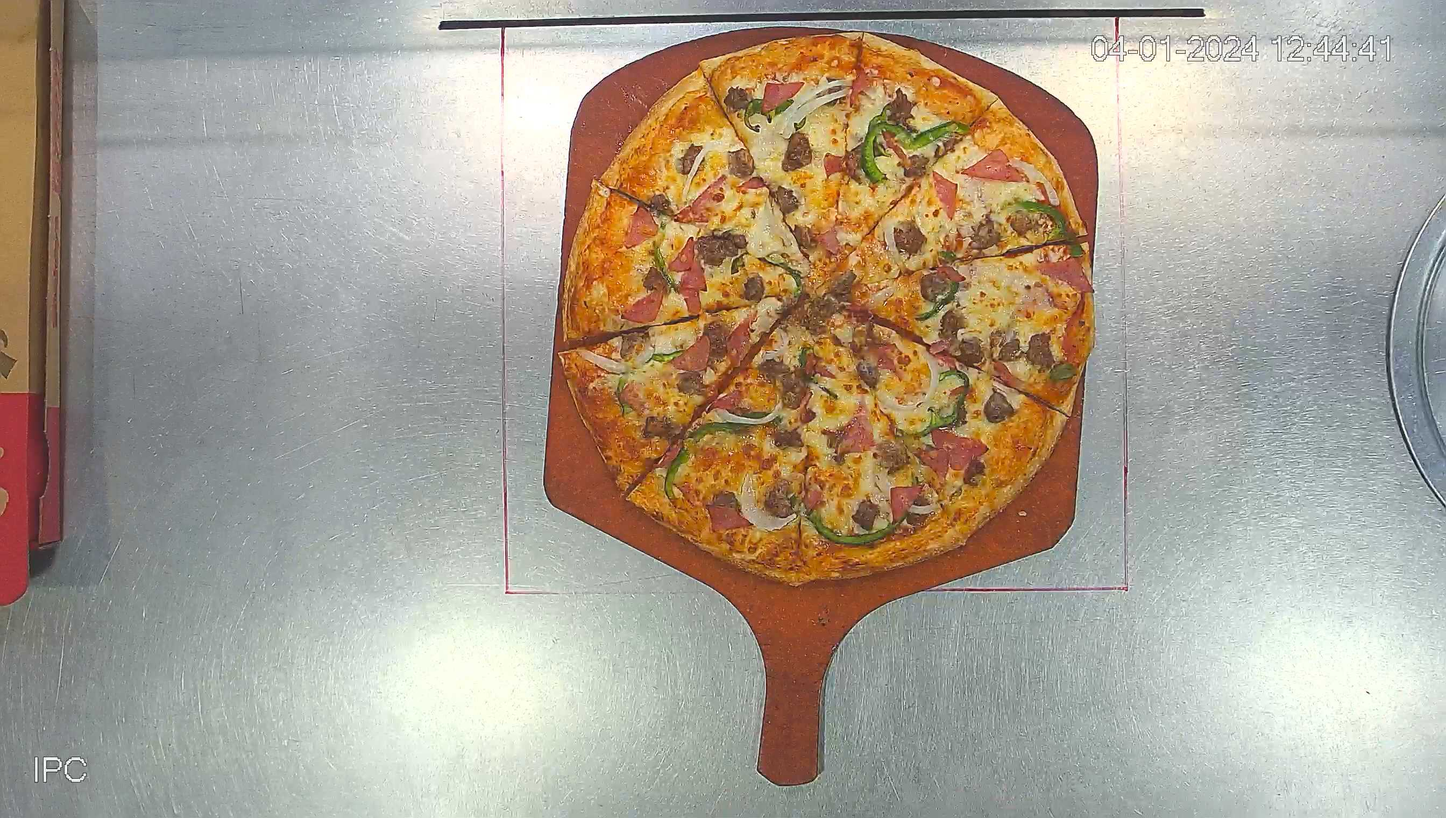hawaiian: (557, 31, 1095, 587)
